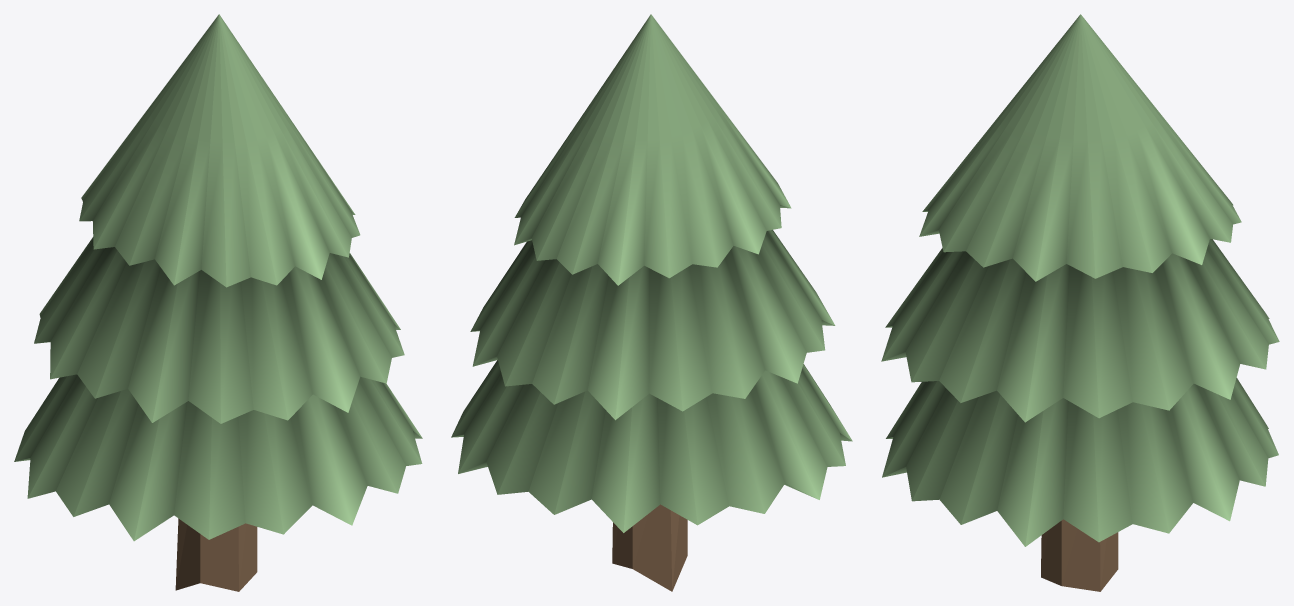
The model's file is tree.glb.
The picture shows the model from 3 angles, left to right: view 1: azimuth 30°, elevation 25°; view 2: azimuth 150°, elevation 25°; view 3: azimuth 270°, elevation 25°; orthographic projection. The views are drawn at different scales.
Visible parts, largest first — view 1: cone_1, cone, cone_2, cylinder; view 2: cone_1, cone, cone_2, cylinder; view 3: cone_1, cone_2, cone, cylinder.
Part boxes in pixels (box(x1,y1,x2,y2)): cone_1: box(34, 237, 404, 423); cone: box(14, 374, 422, 541); cone_2: box(79, 14, 360, 287); cylinder: box(175, 518, 257, 591); cone_1: box(470, 230, 835, 420); cone: box(451, 360, 852, 532); cone_2: box(514, 14, 791, 285); cylinder: box(612, 504, 687, 591); cone_1: box(881, 239, 1279, 422); cone_2: box(919, 14, 1241, 281); cone: box(882, 378, 1278, 546); cylinder: box(1041, 519, 1118, 591).
Size of the model in its own units: 2.47 by 3.77 by 2.36.
